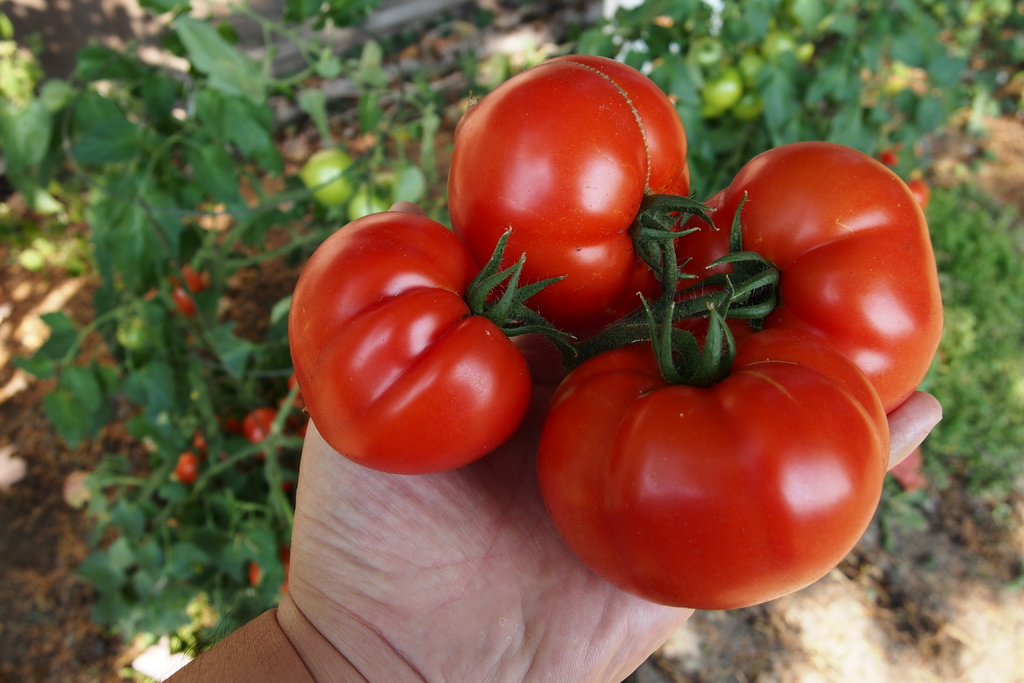Tomato: (527, 301, 897, 617), (442, 48, 725, 337), (682, 135, 949, 420), (288, 209, 540, 476)
